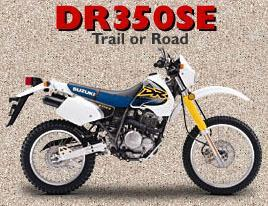motorcycle: (2, 43, 268, 206)
